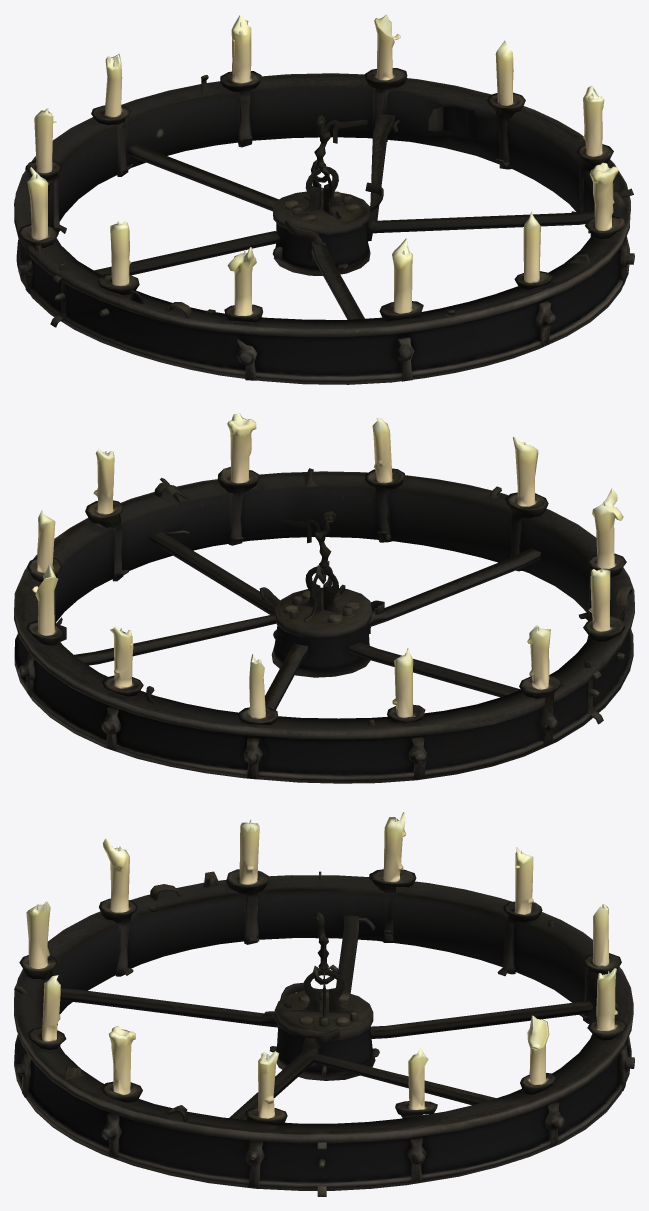
File: lampadario_anello.fbx
3 renders of one model, top to bottom at view 1: azimuth 30°, elevation 25°; view 2: azimuth 150°, elevation 25°; view 3: azimuth 270°, elevation 25°, orthographic.
Parts seen in each view (by area): view 1: tripo_node_25c8e316; view 2: tripo_node_25c8e316; view 3: tripo_node_25c8e316.
Boxes of the visible parts, x1,y1,x2,y2 form: tripo_node_25c8e316: [14, 14, 634, 384]; tripo_node_25c8e316: [14, 413, 634, 783]; tripo_node_25c8e316: [14, 812, 634, 1196].
Bounding box in the file's own units: 0.9995 × 0.2603 × 0.9771.
Materials: 1 (1 with a texture image).
